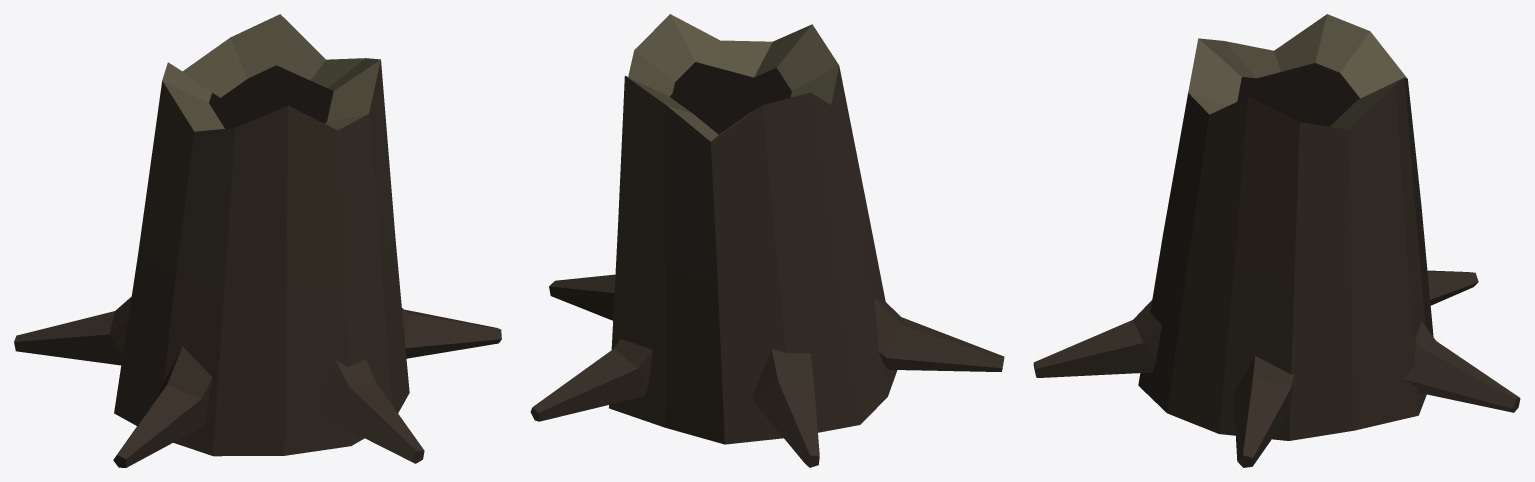
The model's file is stump.glb.
The picture shows the model from 3 angles, left to right: view 1: azimuth 30°, elevation 25°; view 2: azimuth 150°, elevation 25°; view 3: azimuth 270°, elevation 25°; orthographic projection.
Parts seen in each view (by area): view 1: stump; view 2: stump; view 3: stump.
Part boxes in pixels (<box>): stump: <box>14,14,501,467</box>; stump: <box>530,14,1004,467</box>; stump: <box>1033,14,1520,467</box>.
Size of the model in its own units: 0.686 by 0.5119 by 0.6833.
